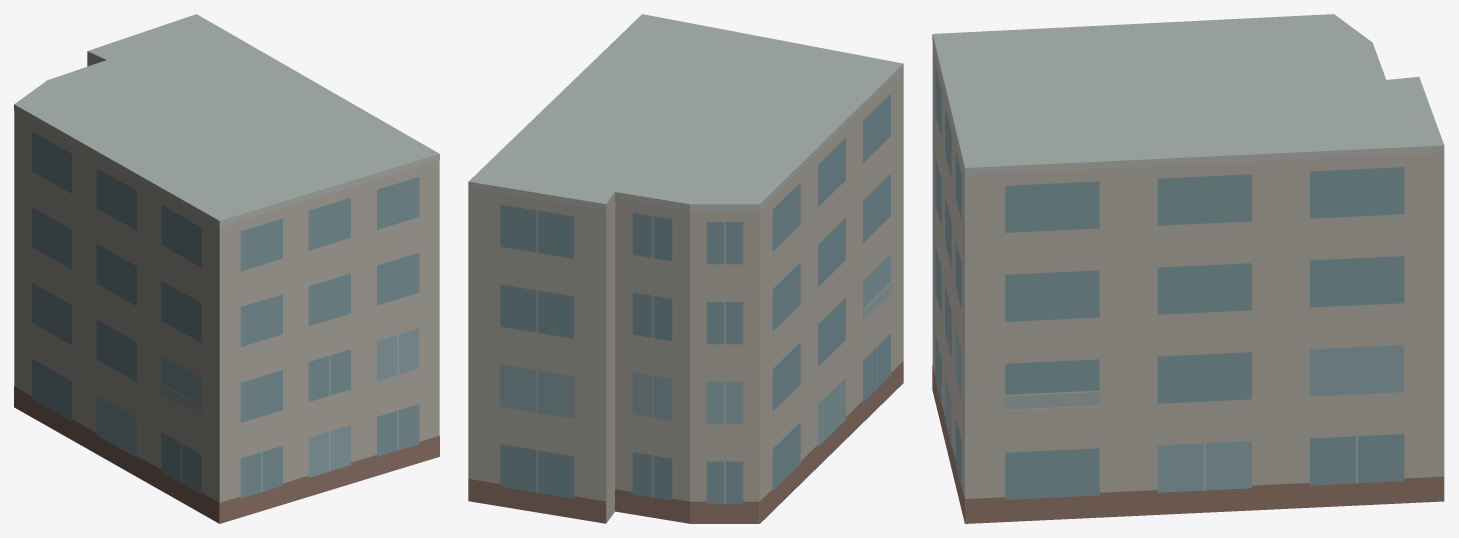
The model's file is survey-upis-32736693.glb.
The picture shows the model from 3 angles, left to right: view 1: azimuth 30°, elevation 25°; view 2: azimuth 150°, elevation 25°; view 3: azimuth 270°, elevation 25°; orthographic projection. The views are drawn at different scales.
Visible parts, largest first — view 1: survey-upis-32736693.tmp; view 2: survey-upis-32736693.tmp; view 3: survey-upis-32736693.tmp.
Boxes of the visible parts, bbox=[...] form: survey-upis-32736693.tmp: bbox=[14, 14, 439, 523]; survey-upis-32736693.tmp: bbox=[468, 14, 903, 523]; survey-upis-32736693.tmp: bbox=[932, 14, 1444, 523].
Size of the model in its own units: 11.33 by 12.2 by 15.91.
